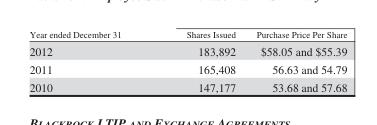table: (28, 28, 346, 93)
table column: (28, 28, 153, 93), (245, 28, 346, 93), (153, 28, 245, 93)
table column header: (28, 28, 346, 41)
table row: (28, 59, 346, 78), (28, 41, 346, 59), (28, 78, 346, 93), (28, 28, 346, 41)
